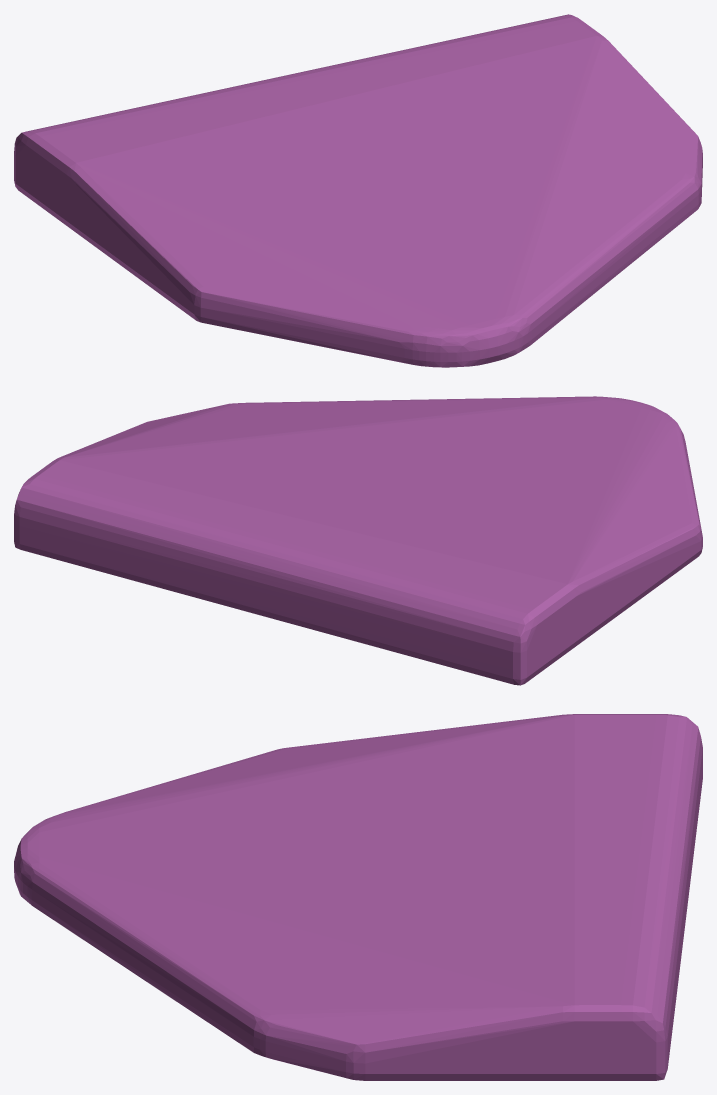
The model's file is right_ankle_link_part_7.obj.
3 renders of one model, top to bottom at view 1: azimuth 30°, elevation 25°; view 2: azimuth 150°, elevation 25°; view 3: azimuth 270°, elevation 25°, orthographic. The views are drawn at different scales.
Size of the model in its own units: 0.0764 by 0.00887 by 0.074.
